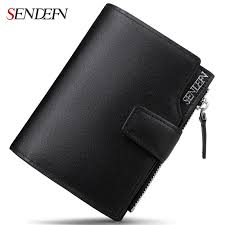monedero: (11, 3, 214, 222)
